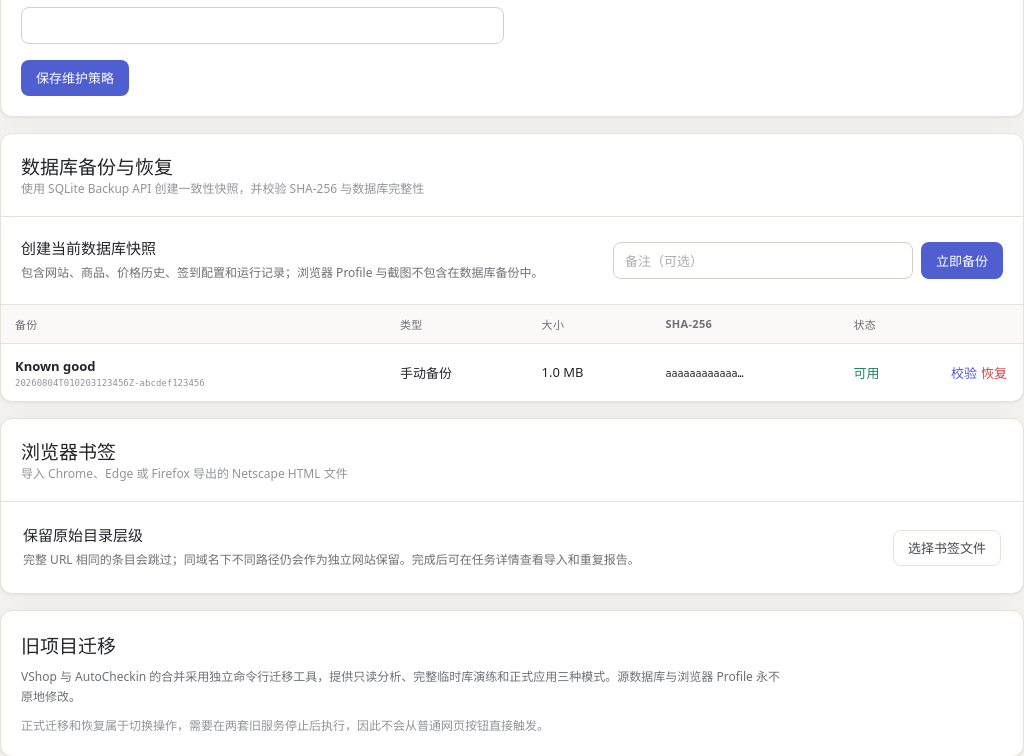
DataSettingsPage backups › marks a backup invalid locally when verification fails
(page scrolled)
Click the button "校验": x=964, y=372 [949, 361, 979, 384]
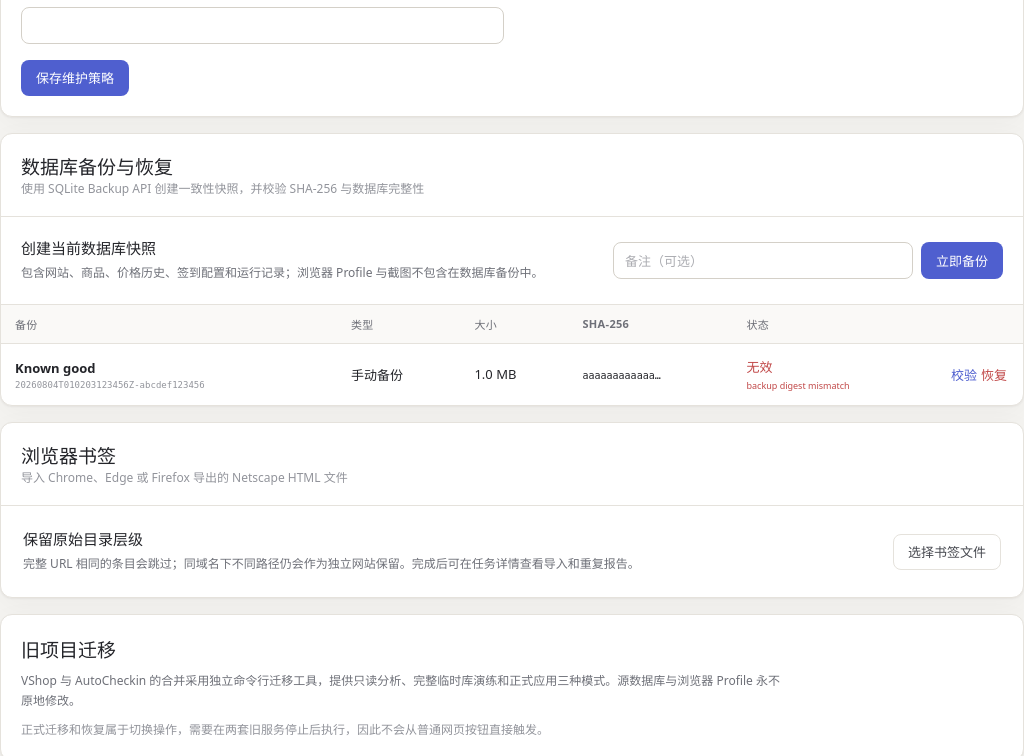
Check: the text "无效" is shown, box [746, 358, 772, 376]
Check: the text "backup digest mismatch" is shown, box [746, 379, 850, 392]
